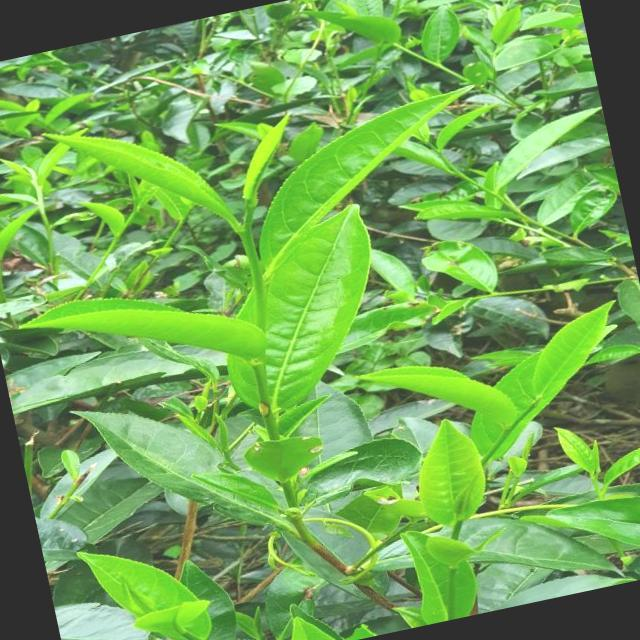Stem: (239, 229, 261, 269), (437, 152, 447, 162), (173, 222, 183, 232), (129, 212, 136, 220)
